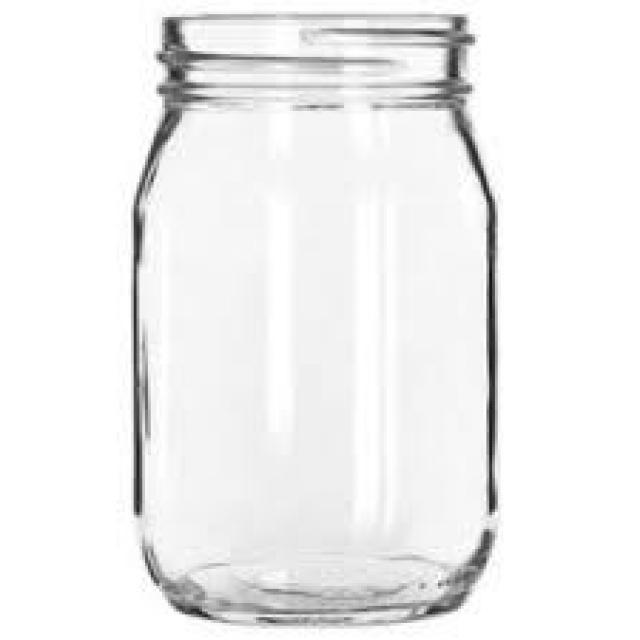glass: (116, 2, 518, 628)
